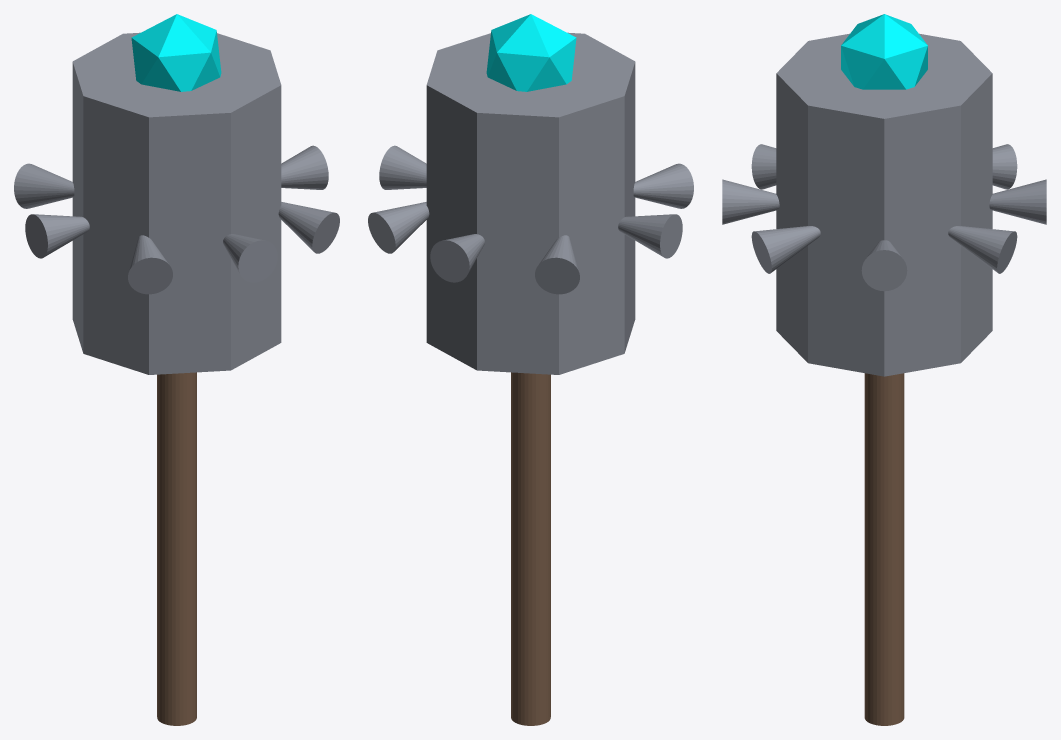
Rendered from megabonk_club.glb.
The picture shows the model from 3 angles, left to right: view 1: azimuth 30°, elevation 25°; view 2: azimuth 150°, elevation 25°; view 3: azimuth 270°, elevation 25°; orthographic projection.
Visible parts, largest first — view 1: Cylinder.001, Cylinder, Icosphere, Cone.004, Cone.007, Cone.003, Cone.006, Cone.005, Cone; view 2: Cylinder.001, Cylinder, Icosphere, Cone.004, Cone.001, Cone.005, Cone.002, Cone.003, Cone; view 3: Cylinder.001, Cylinder, Icosphere, Cone.001, Cone.007, Cone.002, Cone.006, Cone, Cone.003, Cone.005.
Boxes of the visible parts, <box> form: Cylinder.001: <box>72,32,281,374</box>; Cylinder: <box>157,372,196,725</box>; Icosphere: <box>131,14,221,91</box>; Cone.004: <box>25,214,89,258</box>; Cone.007: <box>278,202,339,253</box>; Cone.003: <box>14,163,74,208</box>; Cone.006: <box>223,234,277,282</box>; Cone.005: <box>128,235,172,294</box>; Cone: <box>281,145,328,189</box>; Cylinder.001: <box>426,32,635,374</box>; Cylinder: <box>511,372,550,725</box>; Icosphere: <box>486,14,576,91</box>; Cone.004: <box>618,214,682,258</box>; Cone.001: <box>368,202,429,253</box>; Cone.005: <box>633,163,693,208</box>; Cone.002: <box>430,234,484,282</box>; Cone.003: <box>535,235,579,294</box>; Cone: <box>379,145,426,189</box>; Cylinder.001: <box>776,33,992,376</box>; Cylinder: <box>864,373,904,725</box>; Icosphere: <box>841,14,927,89</box>; Cone.001: <box>948,226,1017,273</box>; Cone.007: <box>751,226,820,273</box>; Cone.002: <box>989,179,1046,224</box>; Cone.006: <box>722,179,779,224</box>; Cone: <box>861,240,907,291</box>; Cone.003: <box>992,144,1017,189</box>; Cone.005: <box>751,144,776,189</box>.
Size of the model in its own units: 1.14 by 2.73 by 1.14.
